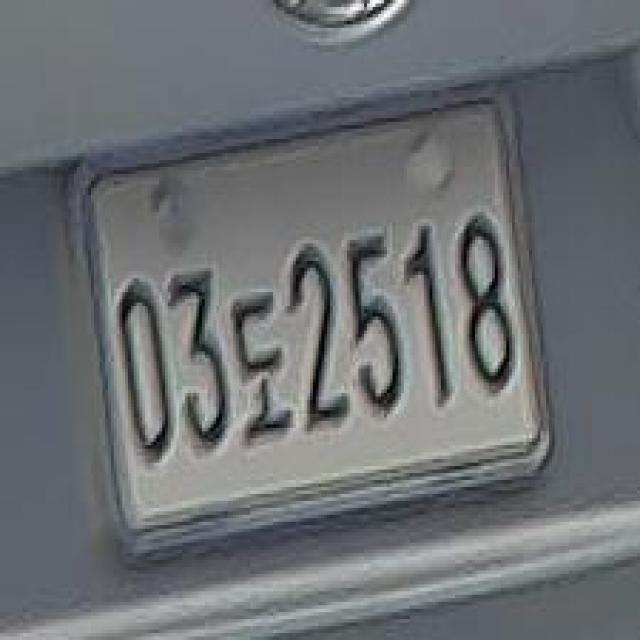illegal_plate: (92, 93, 544, 554)
